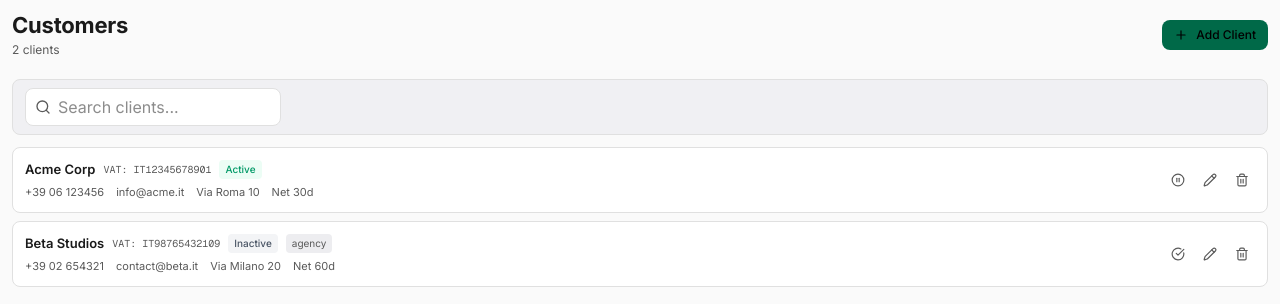
ClientScreen › search filters by email
Expected: the text "Acme Corp" is shown, [25, 160, 95, 180]
Type "beta.it" into the field with placeholder "Search clients..." at (153, 107), box [25, 88, 281, 126]
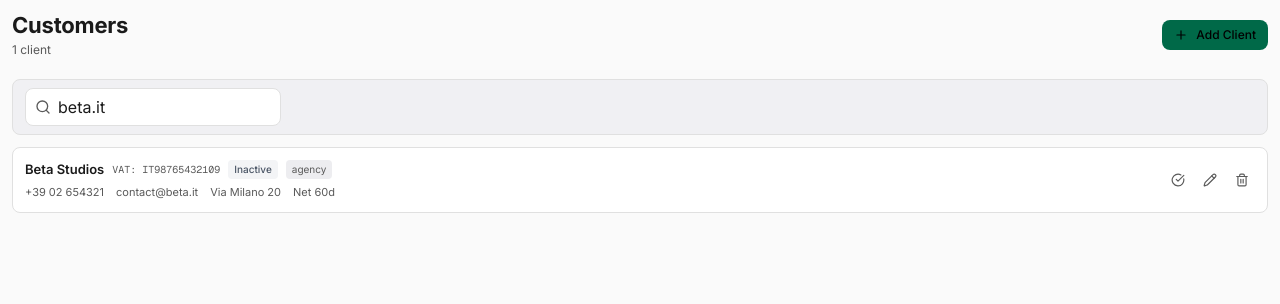
Expected: the text "Beta Studios" is shown, [25, 160, 104, 180]
Expected: the text "Acme Corp" is gone
